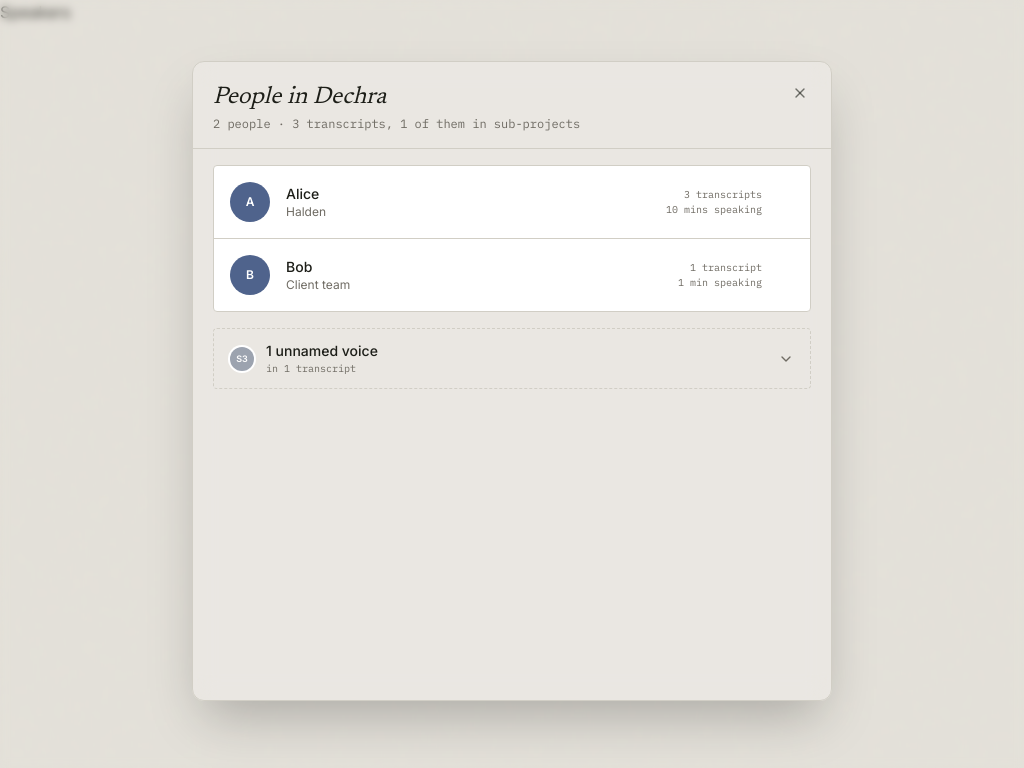
Test: ProjectPeopleDialog › choosing a person slides to their transcripts in this folder, focused on Back
The image size is (1024, 768).
Click the button "A Alice Halden 3 transcripts 10 mins speaking" at (250, 202), box top-left (214, 166), bottom-right (810, 239)
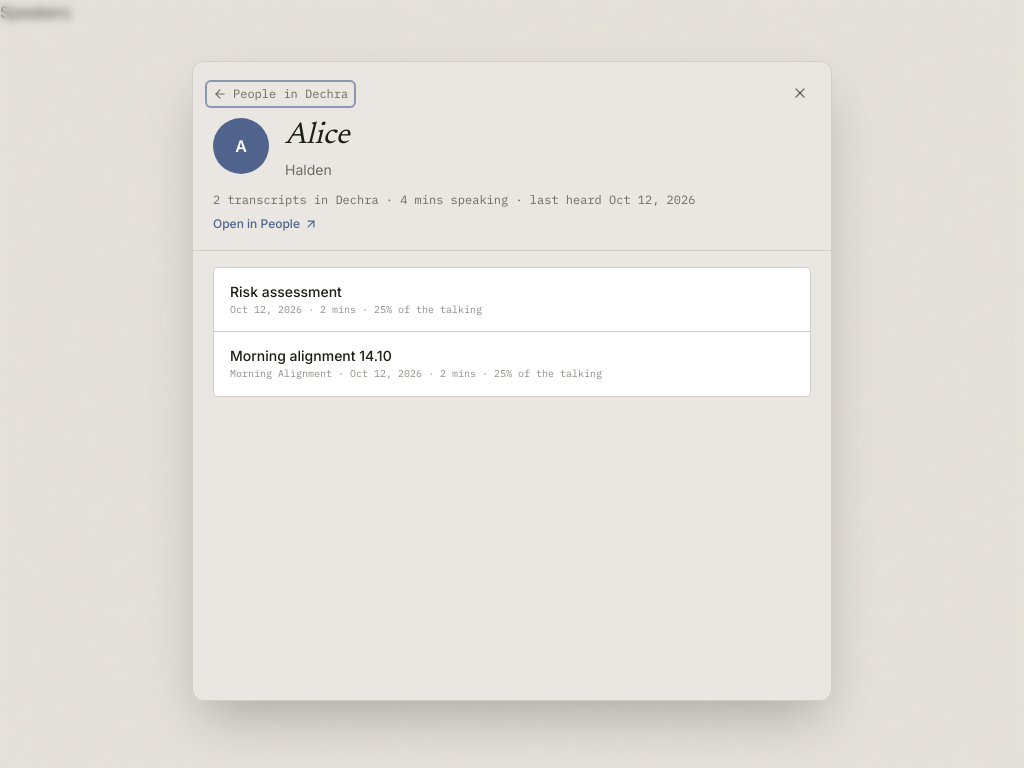
Now the element with test id "appearance-t-root" is shown, box top-left (214, 268), bottom-right (810, 332)
Now the element with test id "appearance-t-child" shows "Morning Alignment ·", box top-left (230, 347), bottom-right (602, 380)
Now the element with test id "appearance-t-root" shows "2 mins · 25% of the talking", box top-left (230, 282), bottom-right (766, 317)
